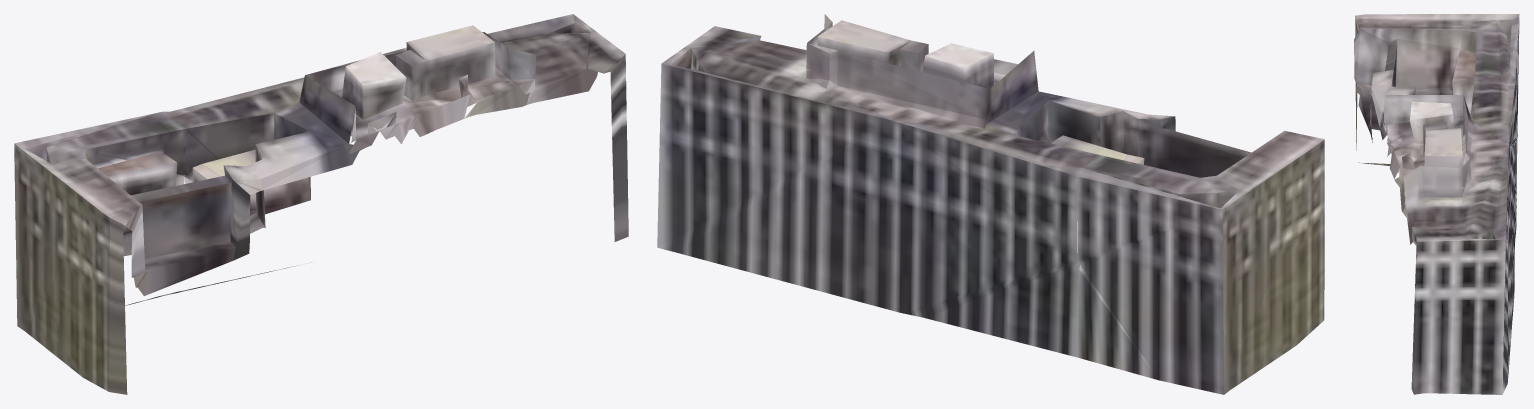
3 renders of one model, left to right at view 1: azimuth 30°, elevation 25°; view 2: azimuth 150°, elevation 25°; view 3: azimuth 270°, elevation 25°, orthographic. The views are drawn at different scales.
Visible parts, largest first — view 1: Mesh_0; view 2: Mesh_0; view 3: Mesh_0.
Part boxes in pixels (<box>): Mesh_0: <box>14,14,628,394</box>; Mesh_0: <box>657,14,1324,394</box>; Mesh_0: <box>1354,14,1519,394</box>.
Bounding box in the file's own units: 33.36 × 12.76 × 10.16.
Materials: 1 (1 with a texture image).
